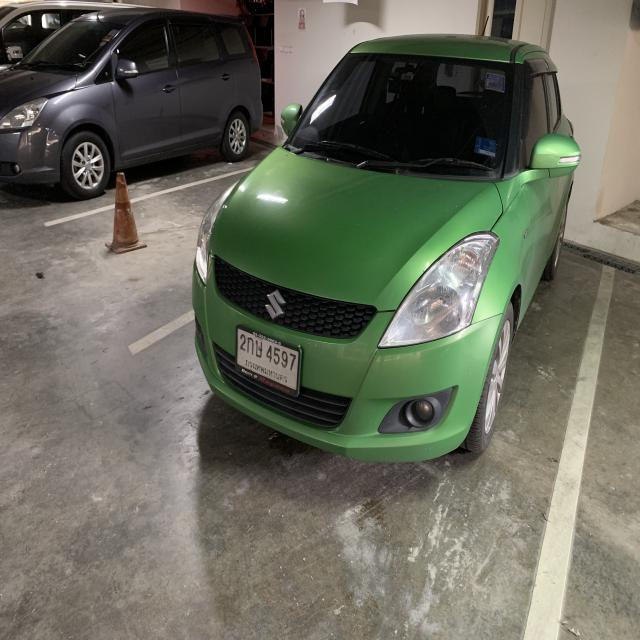license_plate: (235, 324, 302, 400)
